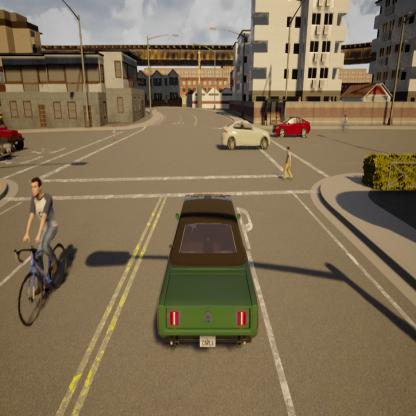Cars: (152, 186, 272, 369), (219, 118, 274, 152), (0, 110, 27, 155), (274, 112, 313, 140), (0, 130, 13, 168)
Pedestrian: (280, 143, 294, 183)
